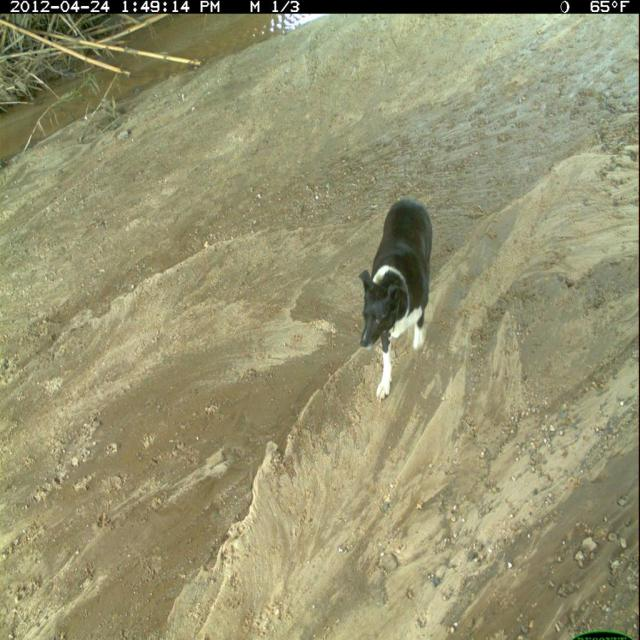dog: (358, 195, 438, 404)
